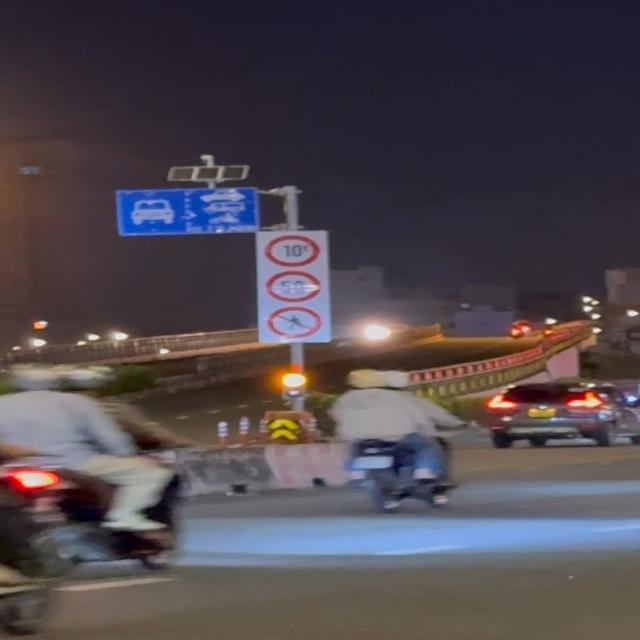Bien bao cam nguoi di bo: (265, 304, 329, 339)
Bien bao toc do toi da cho phep: (263, 269, 323, 303)
